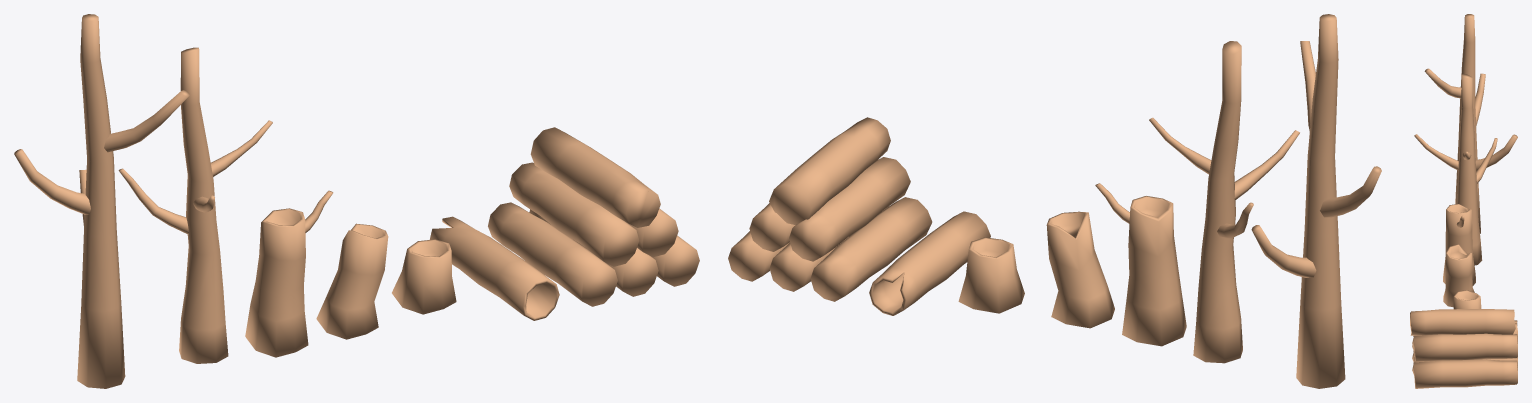
Rendered from Trunk_1.fbx.
3 views of the same model, side by side, from view 1: azimuth 30°, elevation 25°; view 2: azimuth 150°, elevation 25°; view 3: azimuth 270°, elevation 25° (orthographic). The views are drawn at different scales.
Visible parts, largest first — view 1: Circle.047, Circle.046, Circle.048, Circle.061, Circle.065, Circle.060, Circle.044, Circle.051, Circle.045, Circle.062, Circle.063, Circle.064; view 2: Circle.047, Circle.046, Circle.048, Circle.065, Circle.061, Circle.051, Circle.044, Circle.060, Circle.045, Circle.062, Circle.063, Circle.064; view 3: Circle.046, Circle.063, Circle.064, Circle.065, Circle.047, Circle.048, Circle.051, Circle.045.
Part boxes in pixels (left/top/right/bottom): Circle.047: left=14, top=14, right=189, bottom=388; Circle.046: left=118, top=47, right=272, bottom=363; Circle.048: left=245, top=190, right=333, bottom=357; Circle.061: left=488, top=202, right=617, bottom=306; Circle.065: left=530, top=127, right=660, bottom=227; Circle.060: left=509, top=162, right=638, bottom=266; Circle.044: left=429, top=216, right=559, bottom=320; Circle.051: left=316, top=223, right=388, bottom=339; Circle.045: left=392, top=239, right=456, bottom=314; Circle.062: left=529, top=209, right=658, bottom=296; Circle.063: left=651, top=235, right=699, bottom=286; Circle.064: left=626, top=208, right=678, bottom=257; Circle.047: left=1251, top=14, right=1381, bottom=388; Circle.046: left=1149, top=41, right=1299, bottom=363; Circle.048: left=1095, top=183, right=1186, bottom=346; Circle.065: left=769, top=117, right=890, bottom=224; Circle.061: left=810, top=197, right=932, bottom=301; Circle.051: left=1046, top=211, right=1114, bottom=328; Circle.044: left=869, top=211, right=990, bottom=315; Circle.060: left=789, top=157, right=910, bottom=261; Circle.045: left=958, top=237, right=1024, bottom=313; Circle.062: left=769, top=206, right=888, bottom=291; Circle.063: left=728, top=231, right=789, bottom=281; Circle.064: left=749, top=203, right=795, bottom=251; Circle.046: left=1414, top=74, right=1497, bottom=265; Circle.063: left=1412, top=359, right=1517, bottom=388; Circle.064: left=1412, top=333, right=1517, bottom=362; Circle.065: left=1410, top=309, right=1515, bottom=335; Circle.047: left=1424, top=14, right=1517, bottom=233; Circle.048: left=1443, top=204, right=1475, bottom=285; Circle.051: left=1443, top=244, right=1474, bottom=307; Circle.045: left=1453, top=290, right=1481, bottom=309.
Size of the model in its own units: 2162 by 1207 by 548.
